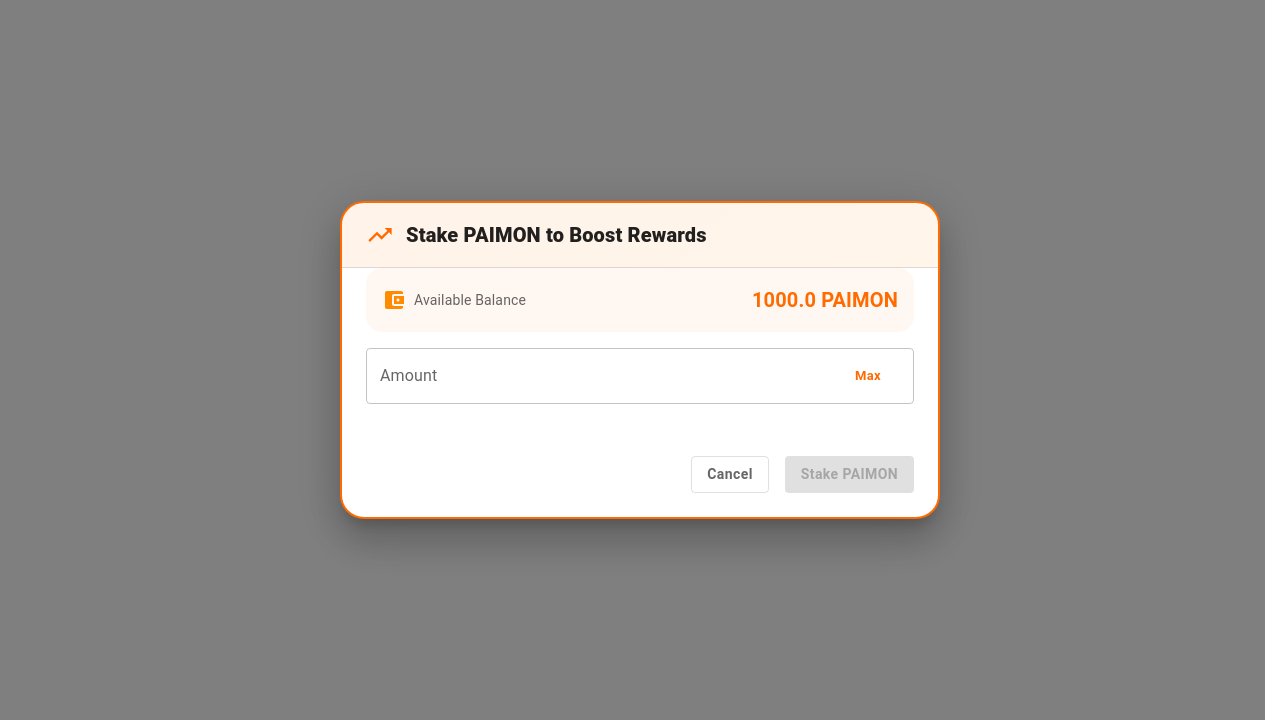
BoostStakeModal Component › Exception: Error Handling › shows error when amount exceeds balance
This screenshot has width=1280, height=720.
Type "1500" into the field labelled "Amount" at (597, 376), box top-left (366, 348), bottom-right (828, 404)
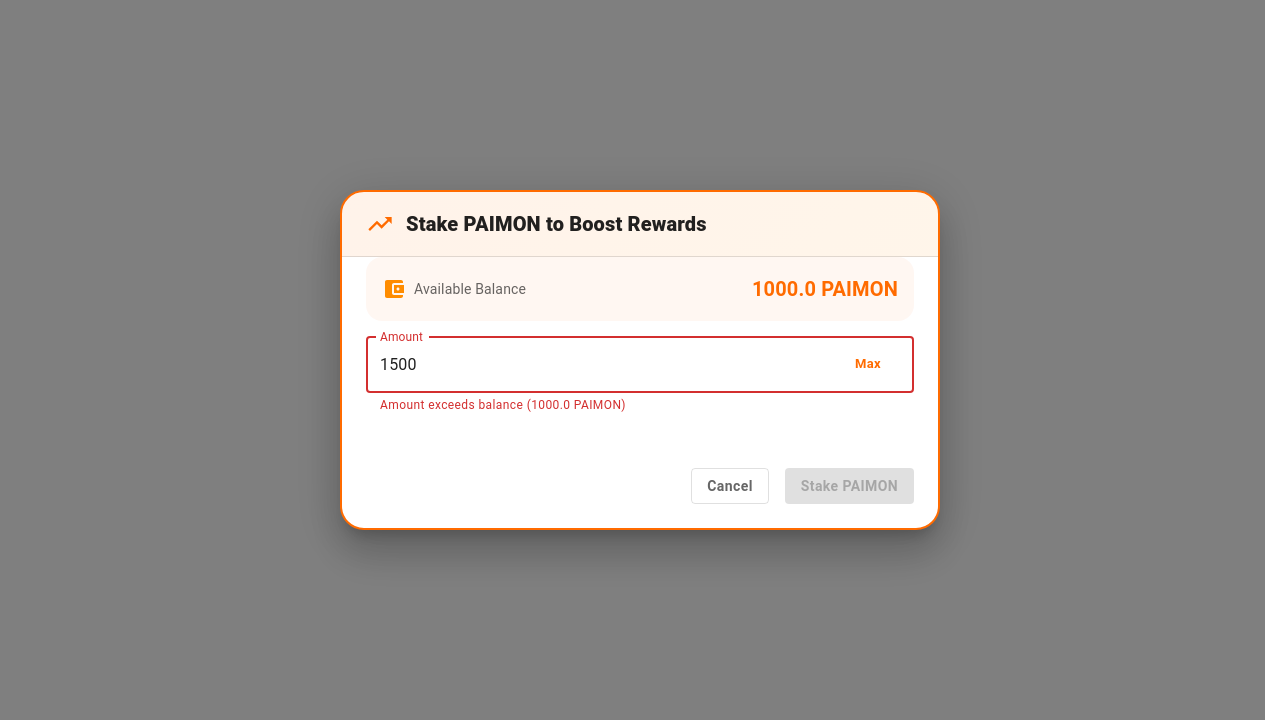
Expected: the button "Stake PAIMON" is disabled, top-left (785, 468), bottom-right (914, 504)
Expected: the text "Amount exceeds balance (1000.0 PAIMON)" is shown, top-left (380, 398), bottom-right (626, 412)
